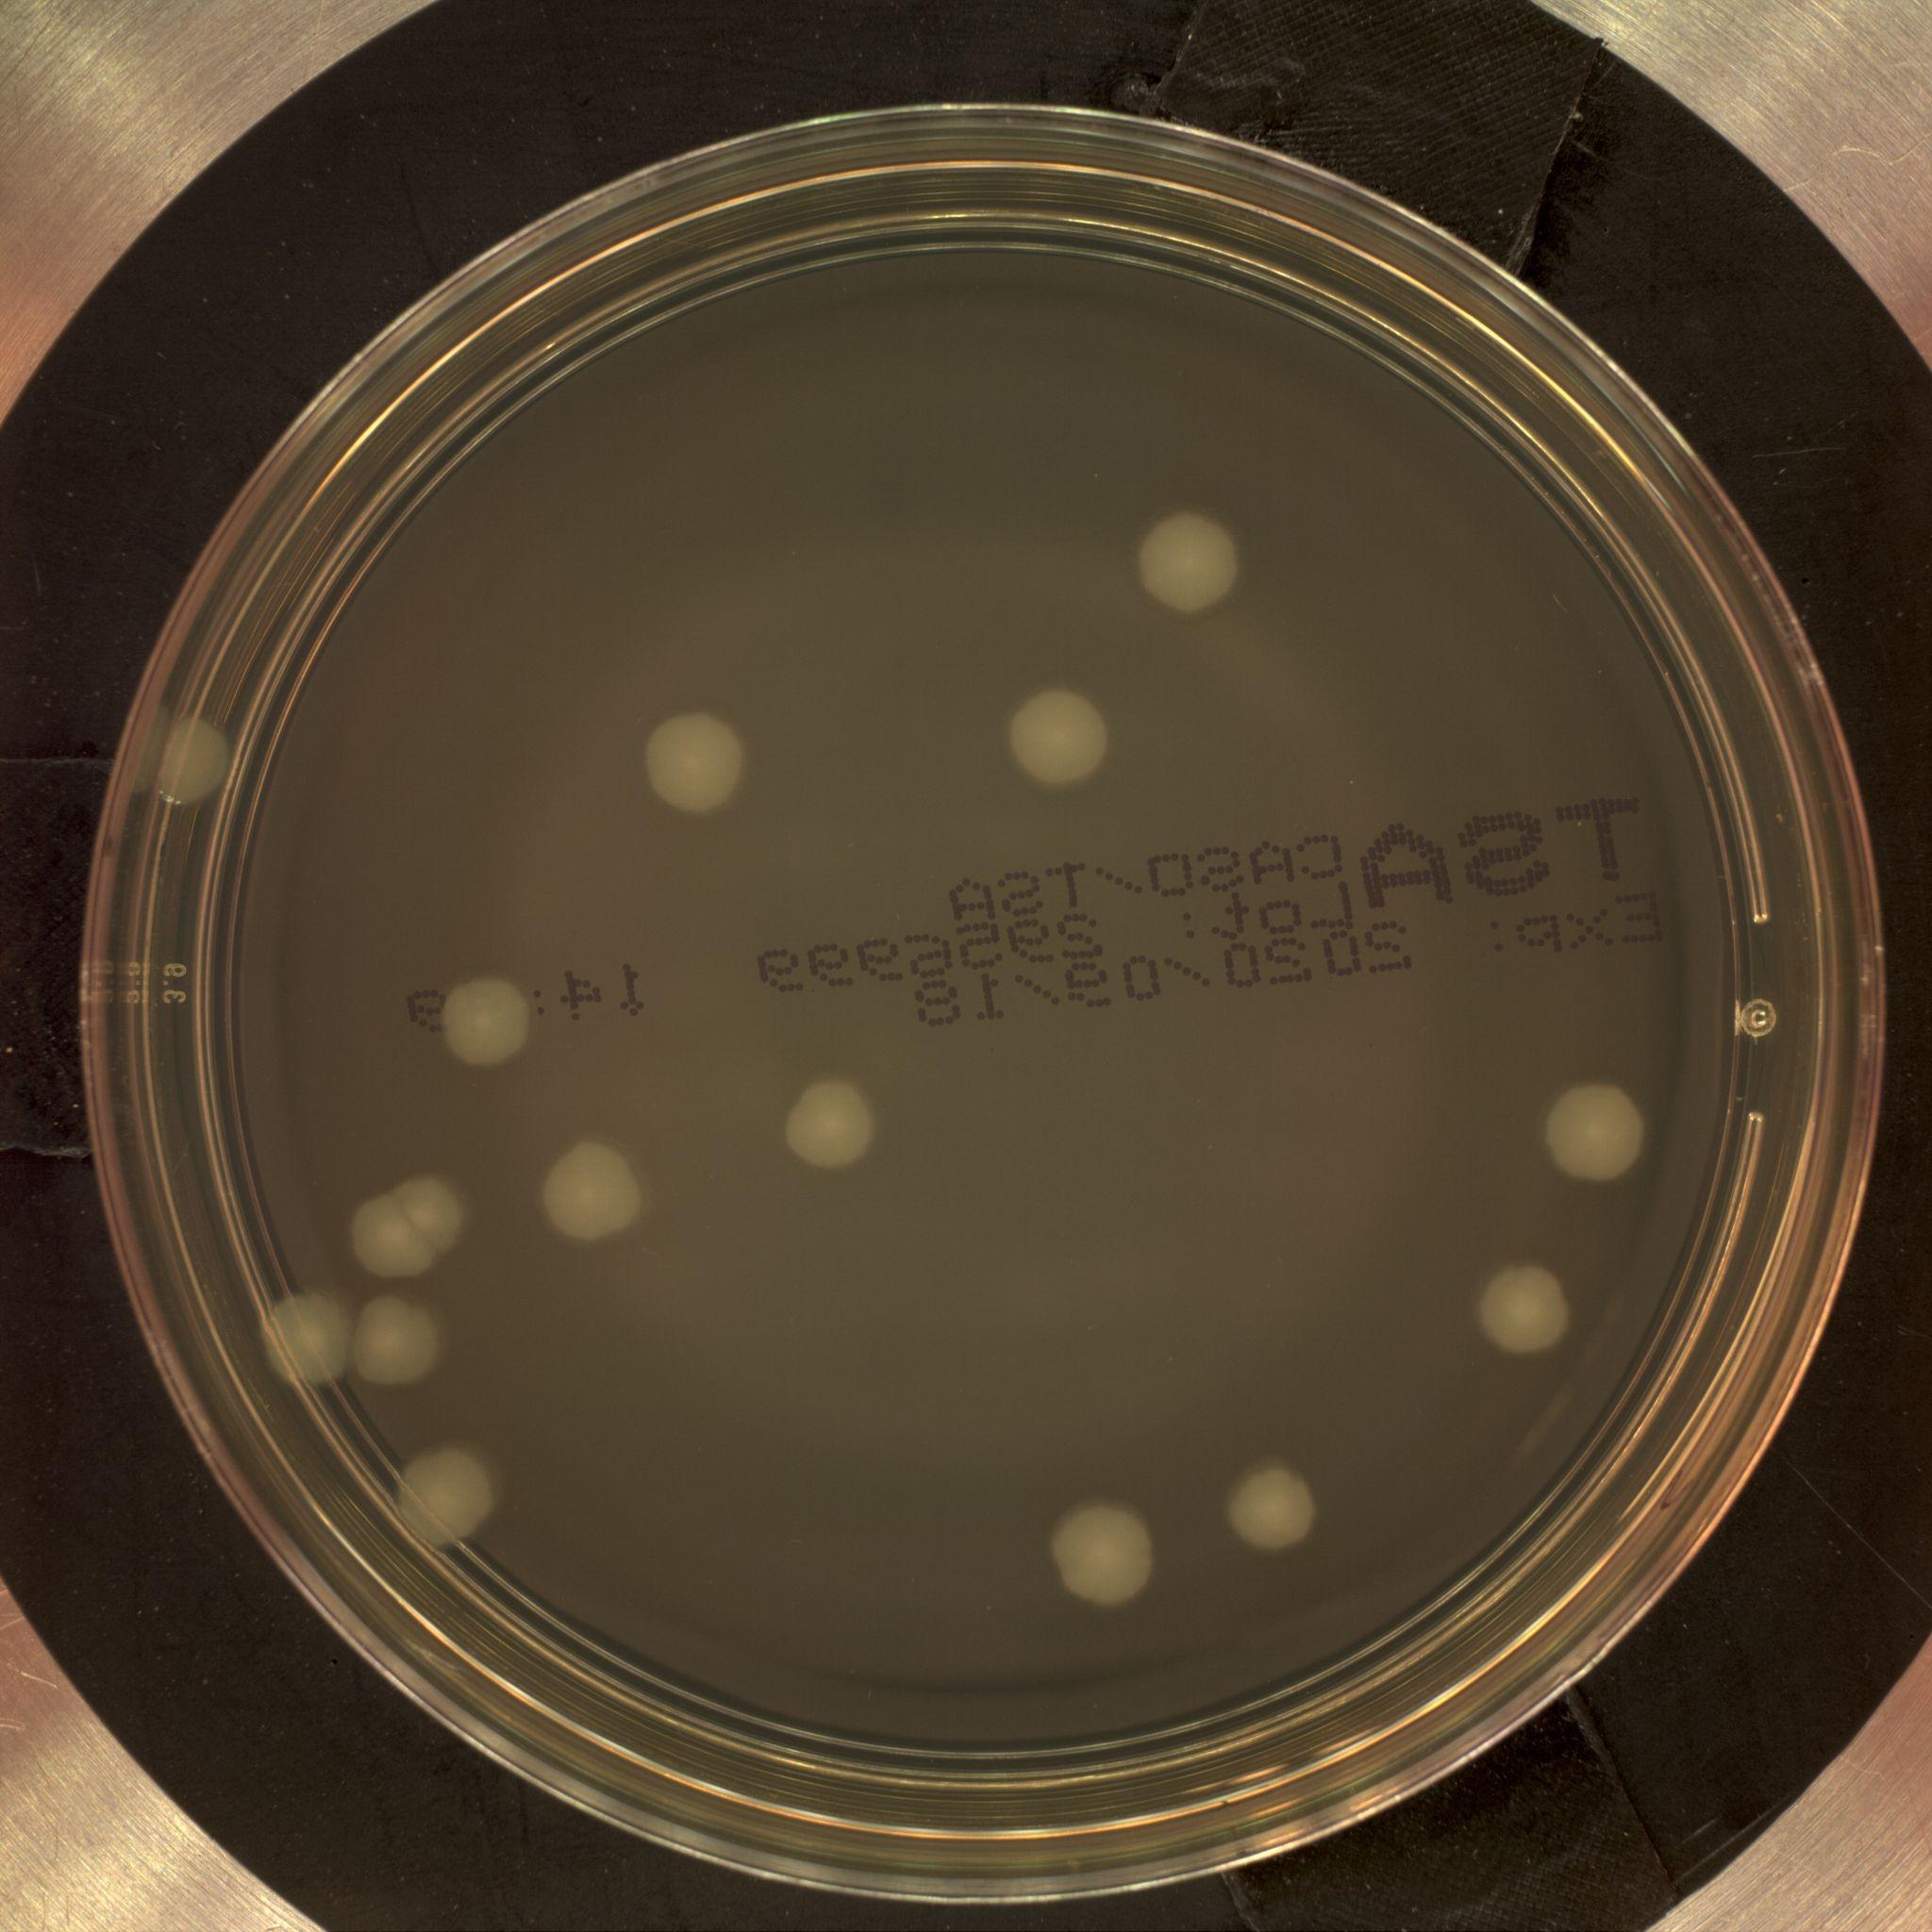e. coli: (637, 708, 748, 826), (347, 1169, 471, 1276), (1047, 1495, 1161, 1608), (1131, 510, 1247, 617), (541, 1132, 649, 1246), (1543, 1077, 1651, 1187), (389, 1447, 501, 1550), (1476, 1261, 1583, 1366), (439, 964, 541, 1070), (1008, 685, 1109, 793), (347, 1295, 453, 1394), (262, 1284, 352, 1389), (789, 1074, 876, 1173), (152, 713, 239, 812), (1230, 1458, 1322, 1550)
